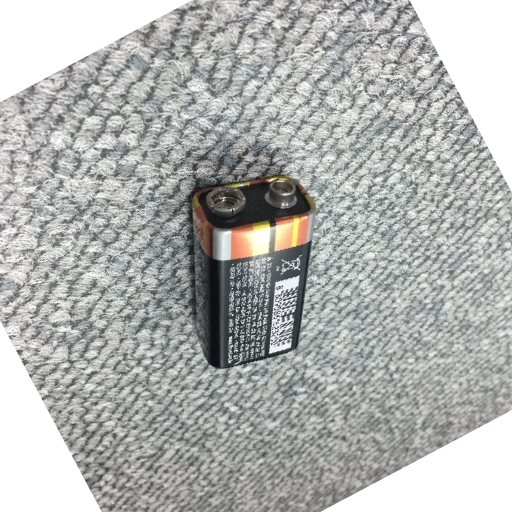Battery_3: (180, 164, 316, 384)
